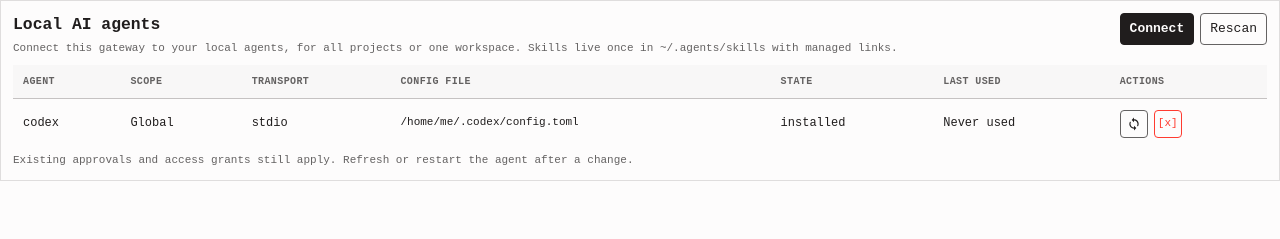
it: clears the last message on Rescan
The image size is (1280, 239).
Click the button named "Remove Aevra from codex (Global)": click(1168, 124) [1154,110,1182,138]
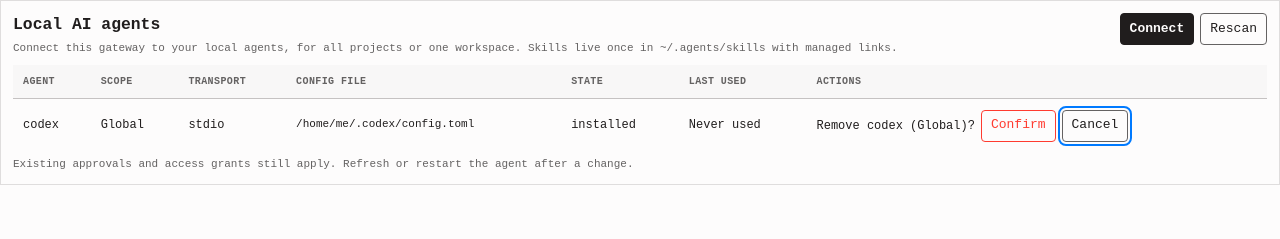
Click the button "Confirm": click(1018, 126) [981,110,1056,142]
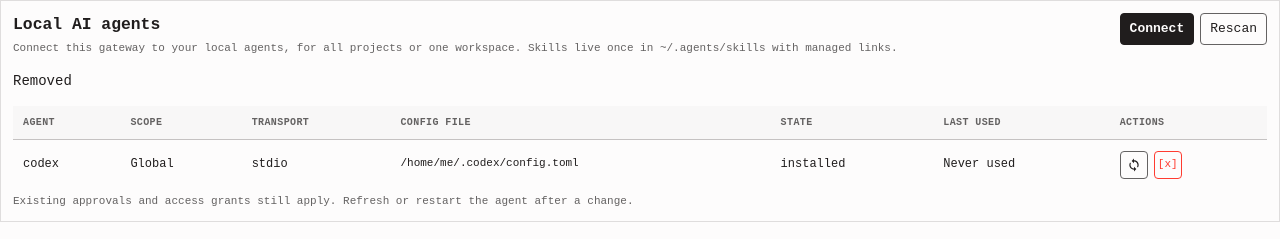
Result: the message reads "Removed" at [13,72,72,88]
Click the button "Rescan": click(1234, 29) [1200,13,1267,45]
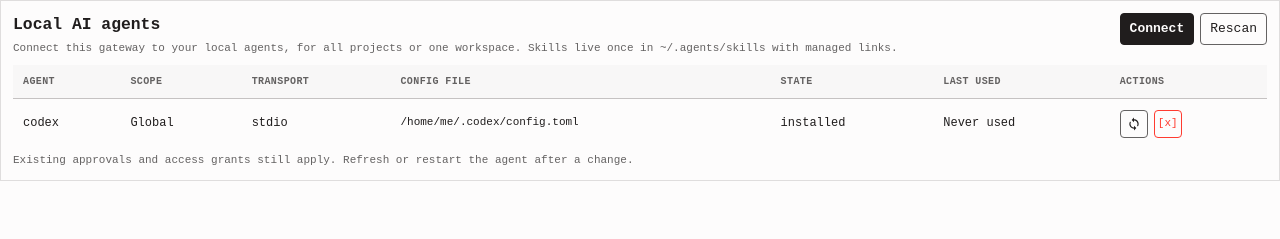
Result: the message "Removed" is gone
